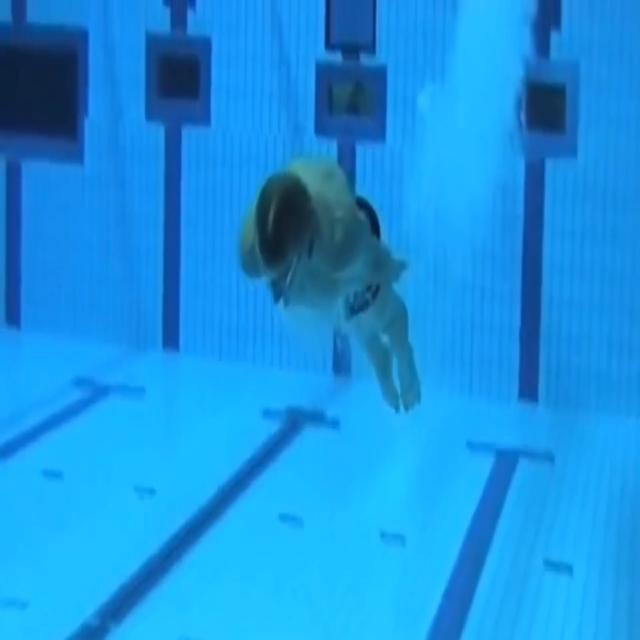Swimming: (236, 158, 422, 419)
